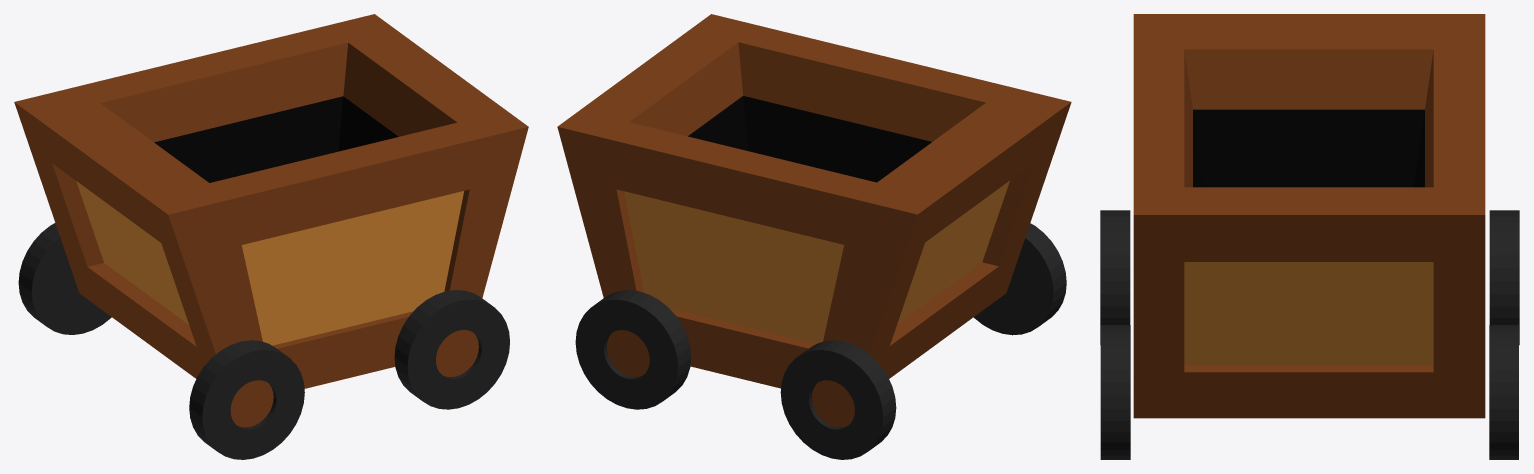
Rendered from cart.fbx.
3 renders of one model, left to right at view 1: azimuth 30°, elevation 25°; view 2: azimuth 150°, elevation 25°; view 3: azimuth 270°, elevation 25°, orthographic. The views are drawn at different scales.
Parts seen in each view (by area): view 1: Cube; view 2: Cube; view 3: Cube.
Part boxes in pixels (left/top/right/bottom): Cube: left=14, top=14, right=528, bottom=459; Cube: left=557, top=14, right=1071, bottom=459; Cube: left=1100, top=14, right=1519, bottom=459.
Bounding box in the file's own units: 100 × 66.36 × 88.26.
